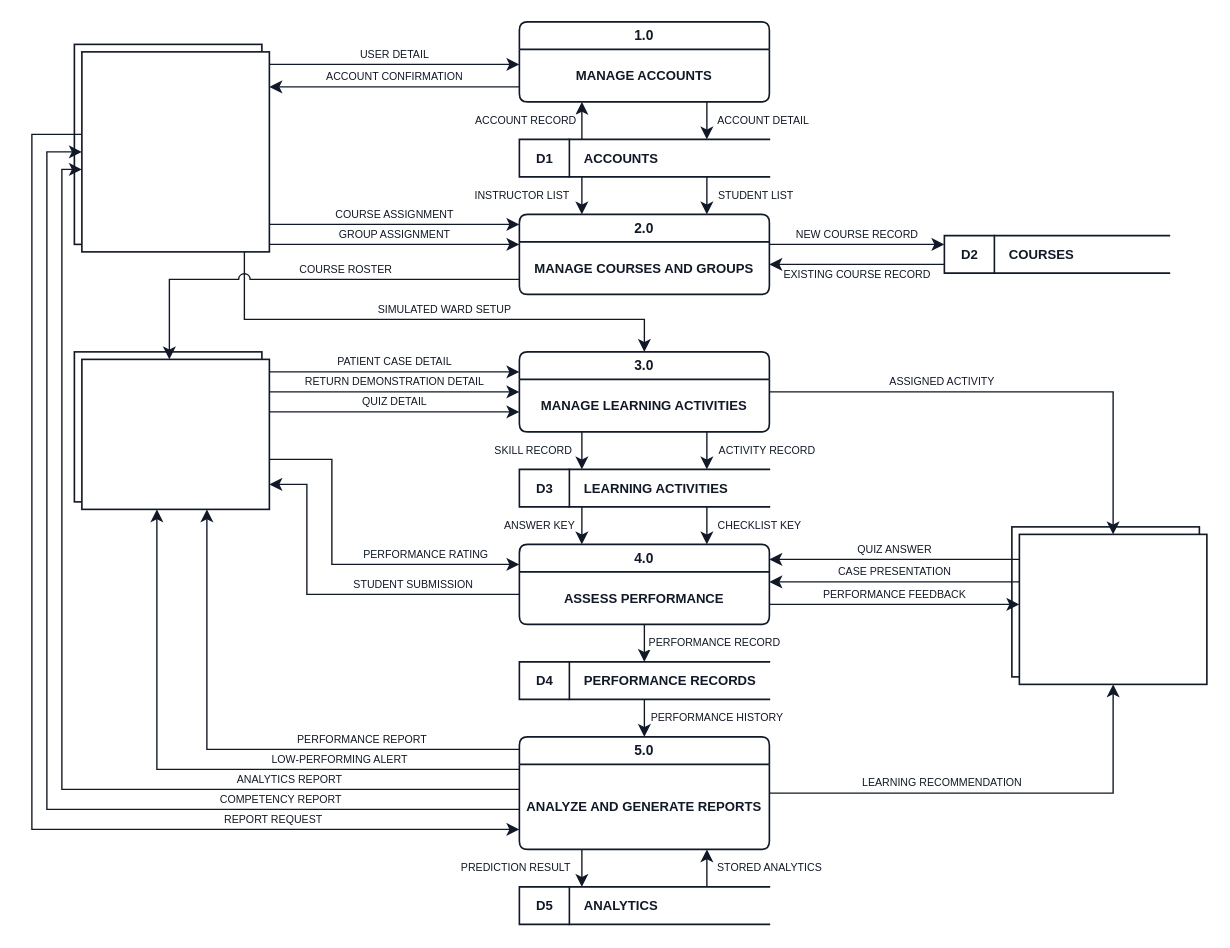
Some shapes in this 1230 by 948 pixel diagram are drawn without their labels. The shapes that lost their labels are listed below. From the top down, each one's centre as x and y in pixels, then its label:
At point (175, 151): "DEAN".
At point (175, 434): "INSTRUCTOR".
At point (1112, 609): "STUDENT".
